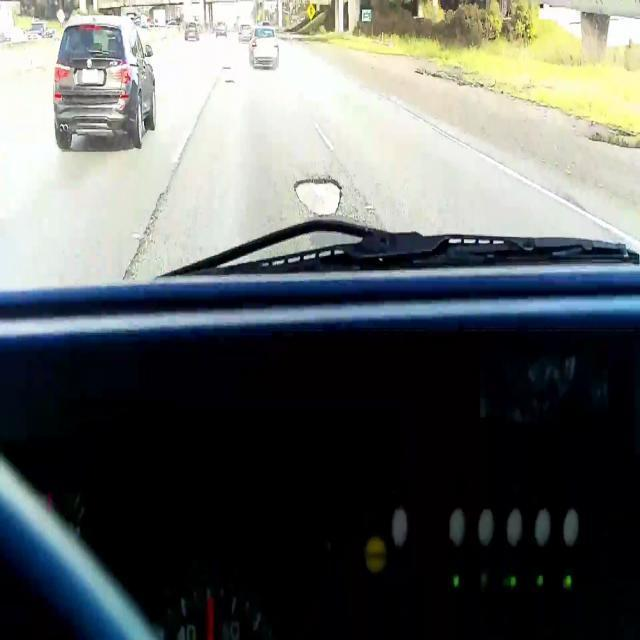pothole: (293, 178, 345, 218), (224, 79, 235, 85), (223, 67, 232, 70)
